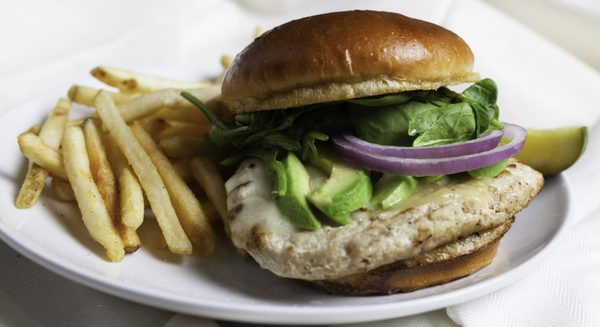soup: (205, 10, 545, 297)
